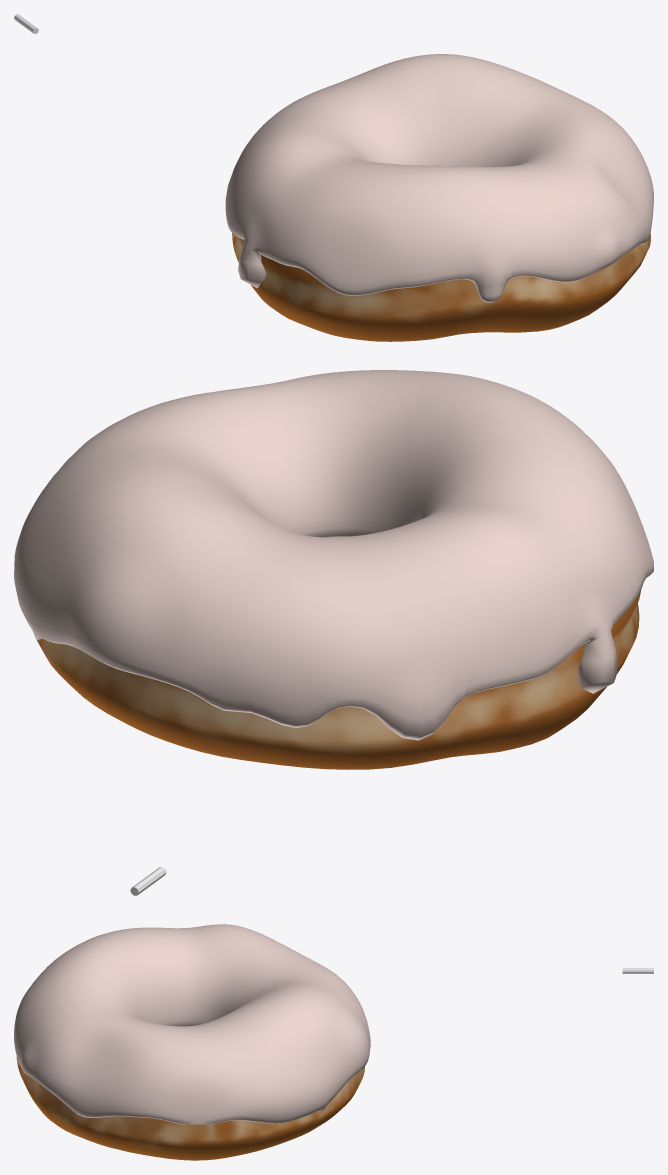
File: donut.gltf
3 renders of one model, top to bottom at view 1: azimuth 30°, elevation 25°; view 2: azimuth 150°, elevation 25°; view 3: azimuth 270°, elevation 25°, orthographic. The views are drawn at different scales.
Visible parts, largest first — view 1: Icing, Torus; view 2: Icing, Torus; view 3: Icing, Torus.
Boxes of the visible parts, x1,y1,x2,y2 form: Icing: [225, 54, 653, 302]; Torus: [232, 233, 650, 341]; Icing: [14, 370, 653, 740]; Torus: [37, 590, 641, 769]; Icing: [14, 924, 370, 1124]; Torus: [16, 1056, 364, 1160].
Size of what is drawn, in the model's own units: 0.1312 by 0.0561 by 0.2301.
Materials: 2 (1 with a texture image).
